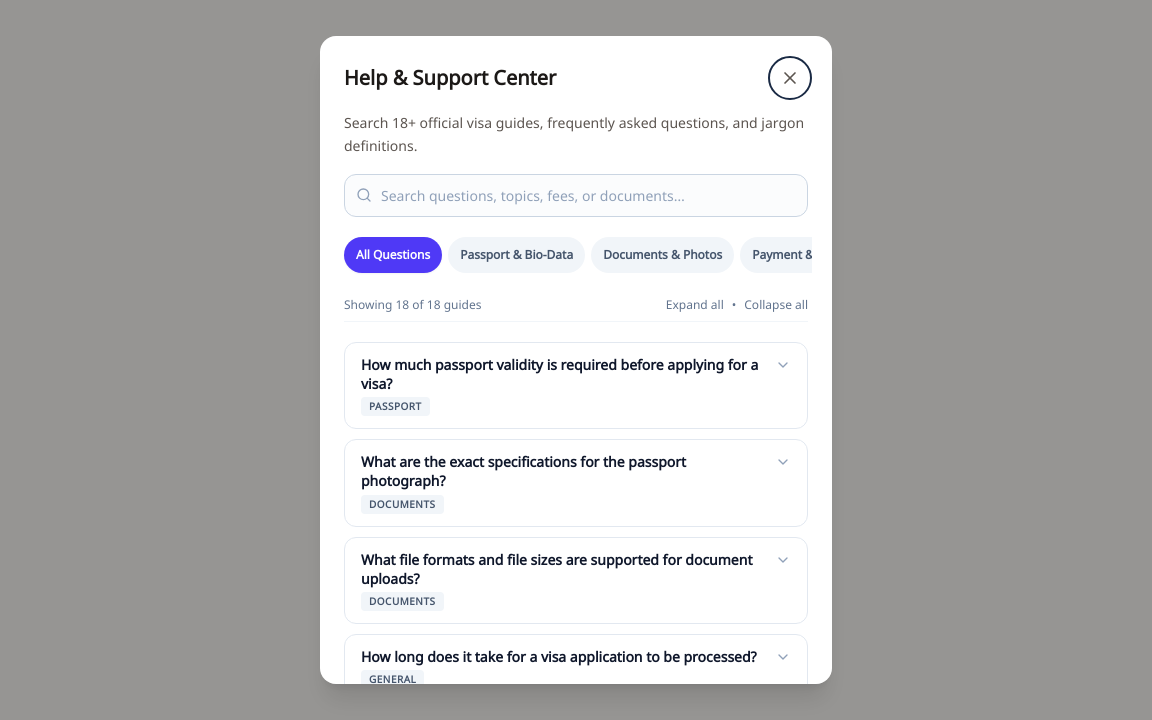
Test case: FaqSheet › expands FAQ accordion on click and reveals answer
The image size is (1152, 720).
Click the button "How much passport validity is required before applying for a visa": (560, 364) top-left (345, 342), bottom-right (807, 428)
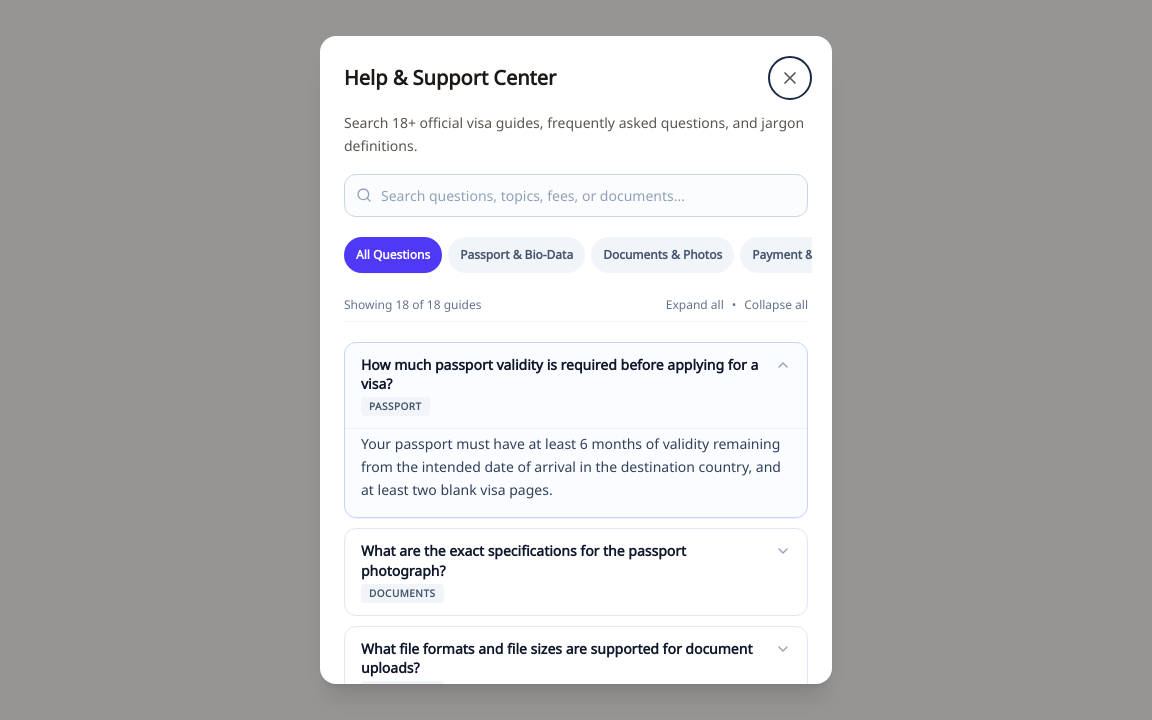
expect the button "How much passport validity is required before applying for a visa" is expanded: met
expect the text "Your passport must have at least 6 months of validity" is shown: met, box top-left (361, 434), bottom-right (781, 498)
# Clicking again collapses it
Click the button "How much passport validity is required before applying for a visa": (560, 364) top-left (345, 342), bottom-right (807, 428)
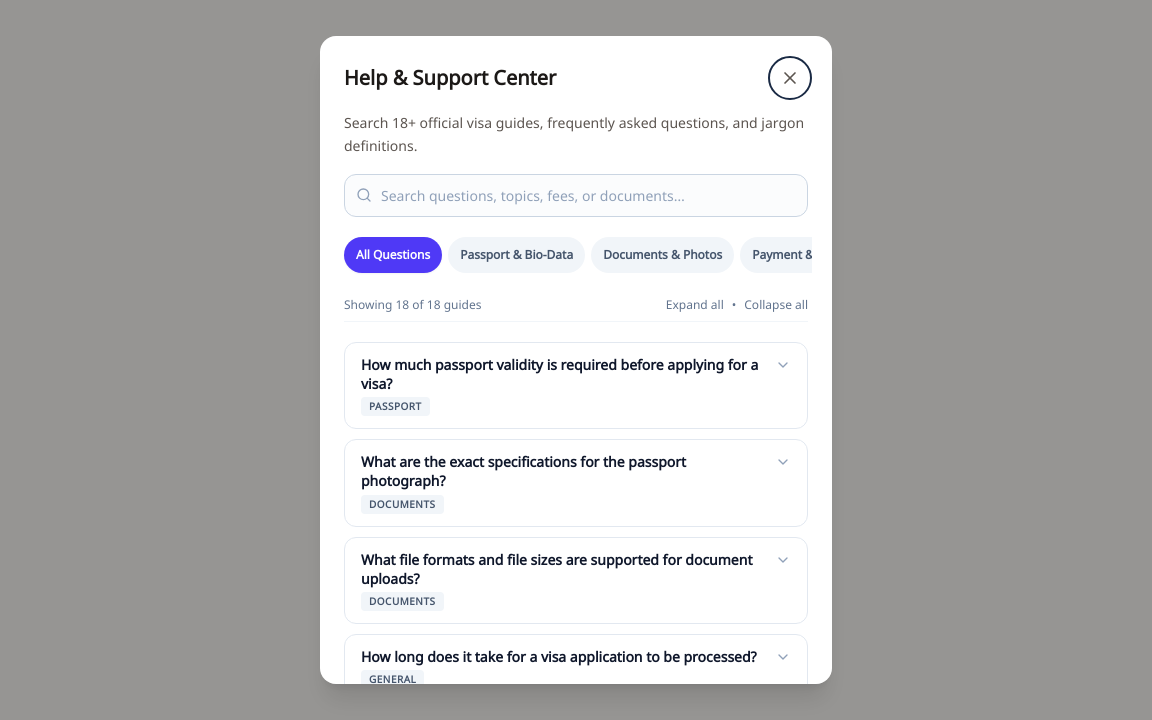
expect the button "How much passport validity is required before applying for a visa" is collapsed: met, box top-left (345, 342), bottom-right (807, 428)
